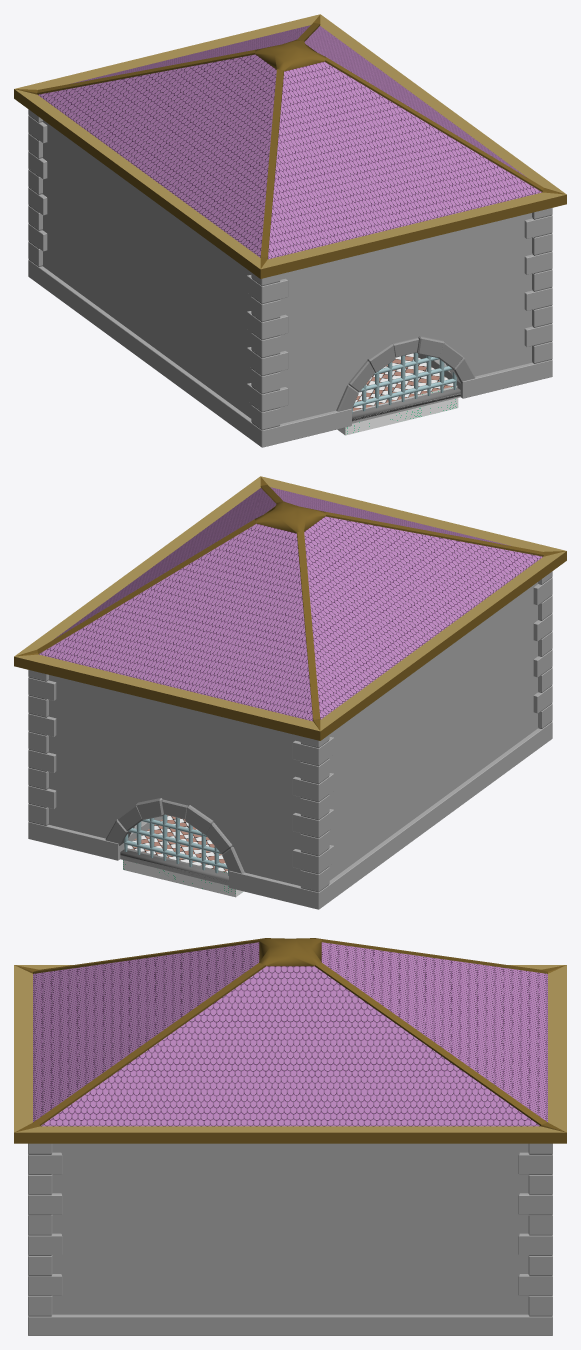
Rendered from RectBuilding.fbx.
3 views of the same model, one above another, from view 1: azimuth 30°, elevation 25°; view 2: azimuth 150°, elevation 25°; view 3: azimuth 270°, elevation 25° (orthographic). The views are drawn at different scales.
Parts seen in each view (by area): view 1: RectBuilding, corner_stones, corner_stones_bottom2, corner_stones.001, RectBuilding_Floor, HouseArch, RectBuildingHearse.001, corner_stones_bottom1, RectBuildingGround, corner_stones_core; view 2: RectBuilding, corner_stones, corner_stones_bottom2, corner_stones.001, RectBuilding_Floor, HouseArch, RectBuildingHearse, corner_stones_bottom1, RectBuildingGround, corner_stones_core; view 3: RectBuilding, corner_stones_bottom1, corner_stones.001, corner_stones_core.
Boxes of the visible parts, x1,y1,x2,y2 form: RectBuilding: (14, 14, 566, 423); corner_stones: (28, 109, 288, 429); corner_stones_bottom2: (28, 259, 351, 447); corner_stones.001: (524, 208, 552, 363); RectBuilding_Floor: (337, 353, 458, 435); HouseArch: (336, 336, 475, 411); RectBuildingHearse.001: (352, 352, 456, 413); corner_stones_bottom1: (418, 354, 552, 398); RectBuildingGround: (352, 387, 460, 421); corner_stones_core: (28, 115, 552, 430); RectBuilding: (14, 476, 566, 885); corner_stones: (292, 571, 552, 891); corner_stones_bottom2: (229, 721, 552, 909); corner_stones.001: (28, 670, 56, 825); RectBuilding_Floor: (123, 815, 243, 897); HouseArch: (105, 798, 244, 873); RectBuildingHearse: (124, 814, 228, 875); corner_stones_bottom1: (28, 816, 162, 860); RectBuildingGround: (120, 849, 228, 881); corner_stones_core: (28, 577, 552, 892); RectBuilding: (14, 938, 566, 1314); corner_stones_bottom1: (28, 1314, 552, 1335); corner_stones.001: (28, 1143, 552, 1315); corner_stones_core: (28, 1154, 552, 1316).
Size of what is drawn, in the model's own units: 174 by 242 by 158.
